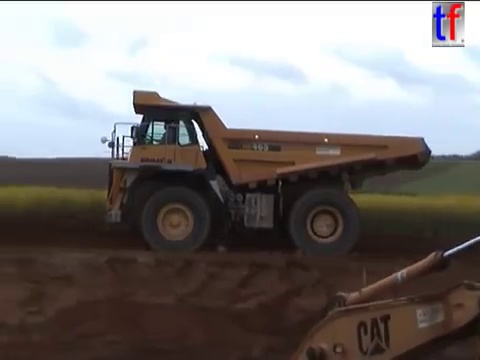excavator: (287, 233, 480, 360)
truck: (97, 88, 434, 259)
